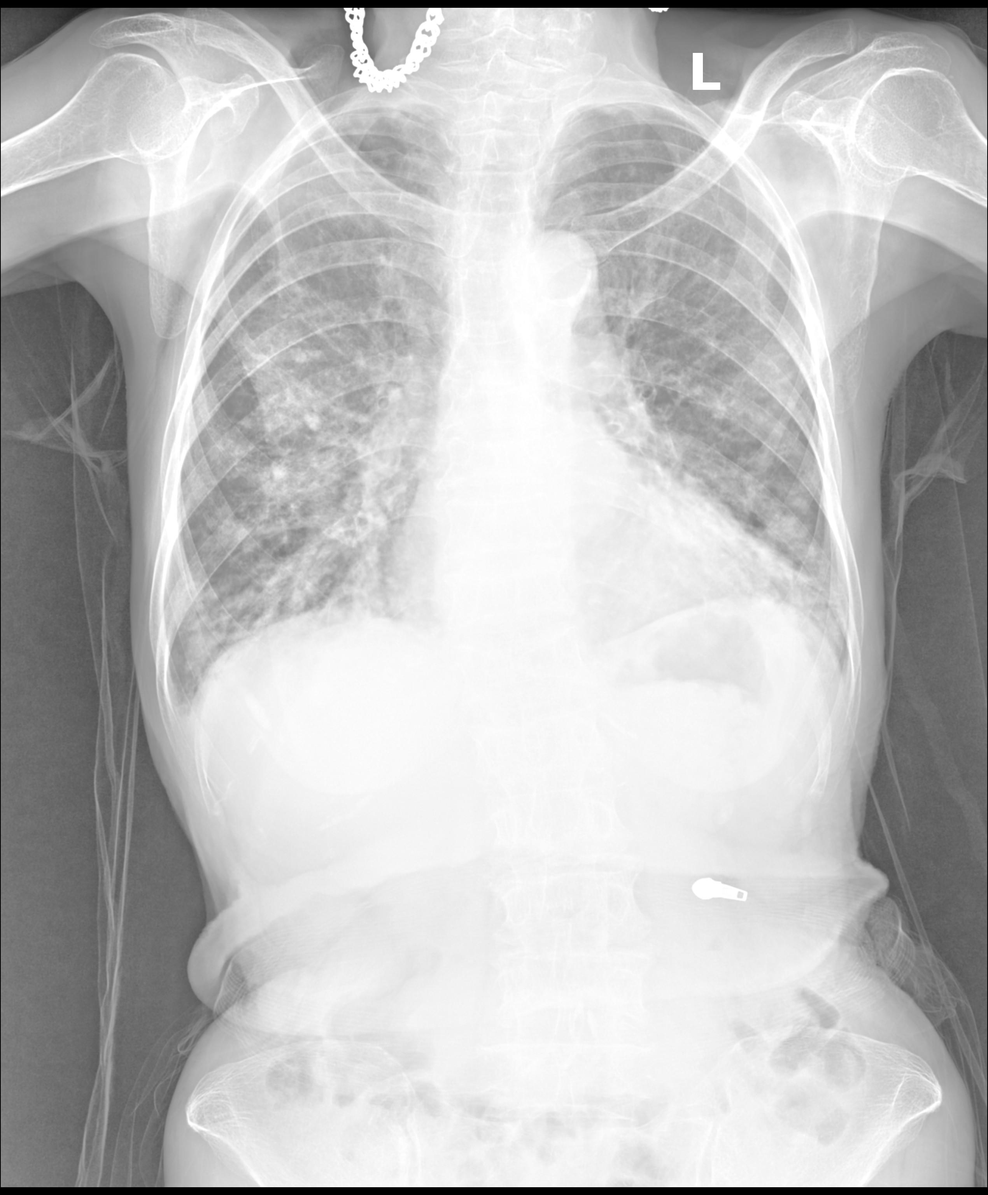Aortic enlargement: (523, 229, 597, 287)
Cardiomegaly: (389, 514, 785, 664)
Pleural thickening: (588, 96, 683, 135), (152, 692, 209, 730)
